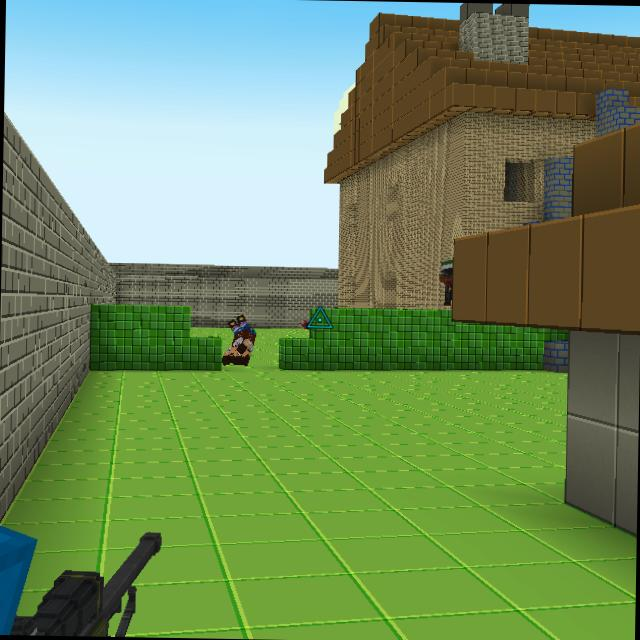enemy: (438, 258, 451, 306)
